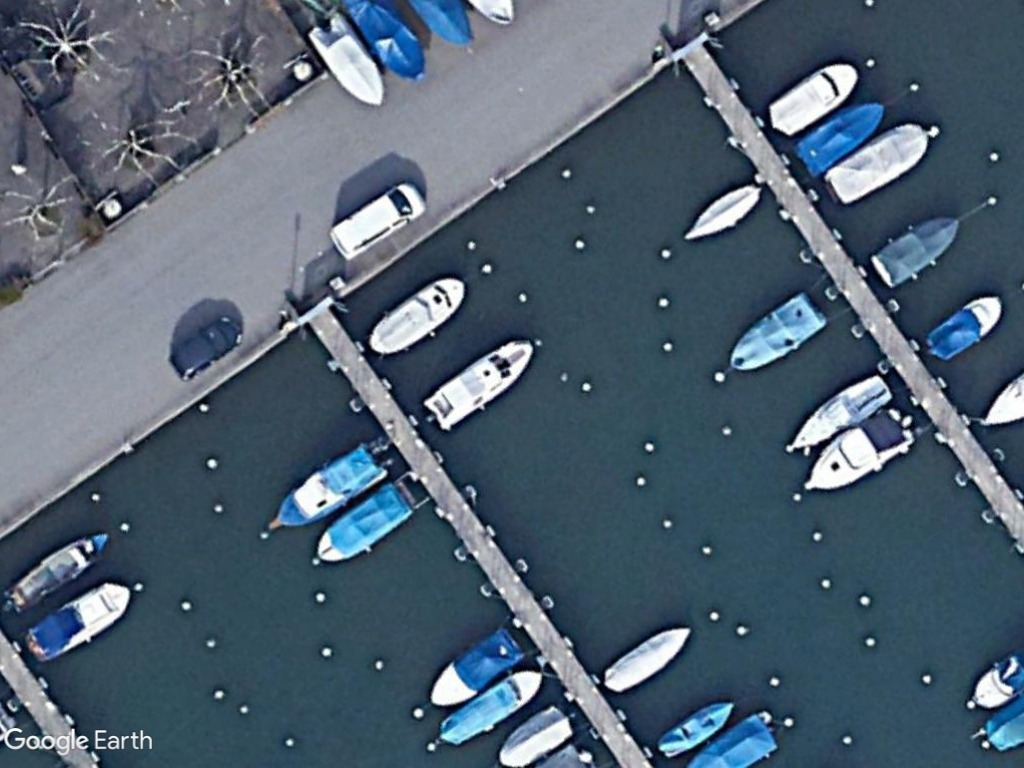boat: (425, 336, 536, 432), (271, 437, 386, 528), (802, 409, 915, 500), (783, 371, 894, 457), (24, 579, 135, 665), (2, 528, 110, 612), (826, 120, 931, 205), (434, 666, 543, 745), (729, 290, 826, 378), (367, 274, 464, 359), (302, 14, 387, 109), (315, 484, 417, 562), (425, 628, 521, 709), (766, 58, 860, 139), (869, 211, 961, 290), (794, 100, 890, 175), (601, 622, 693, 695), (921, 289, 1008, 361), (680, 180, 764, 248), (497, 705, 579, 768), (656, 696, 740, 757)
van: (328, 174, 426, 264)
